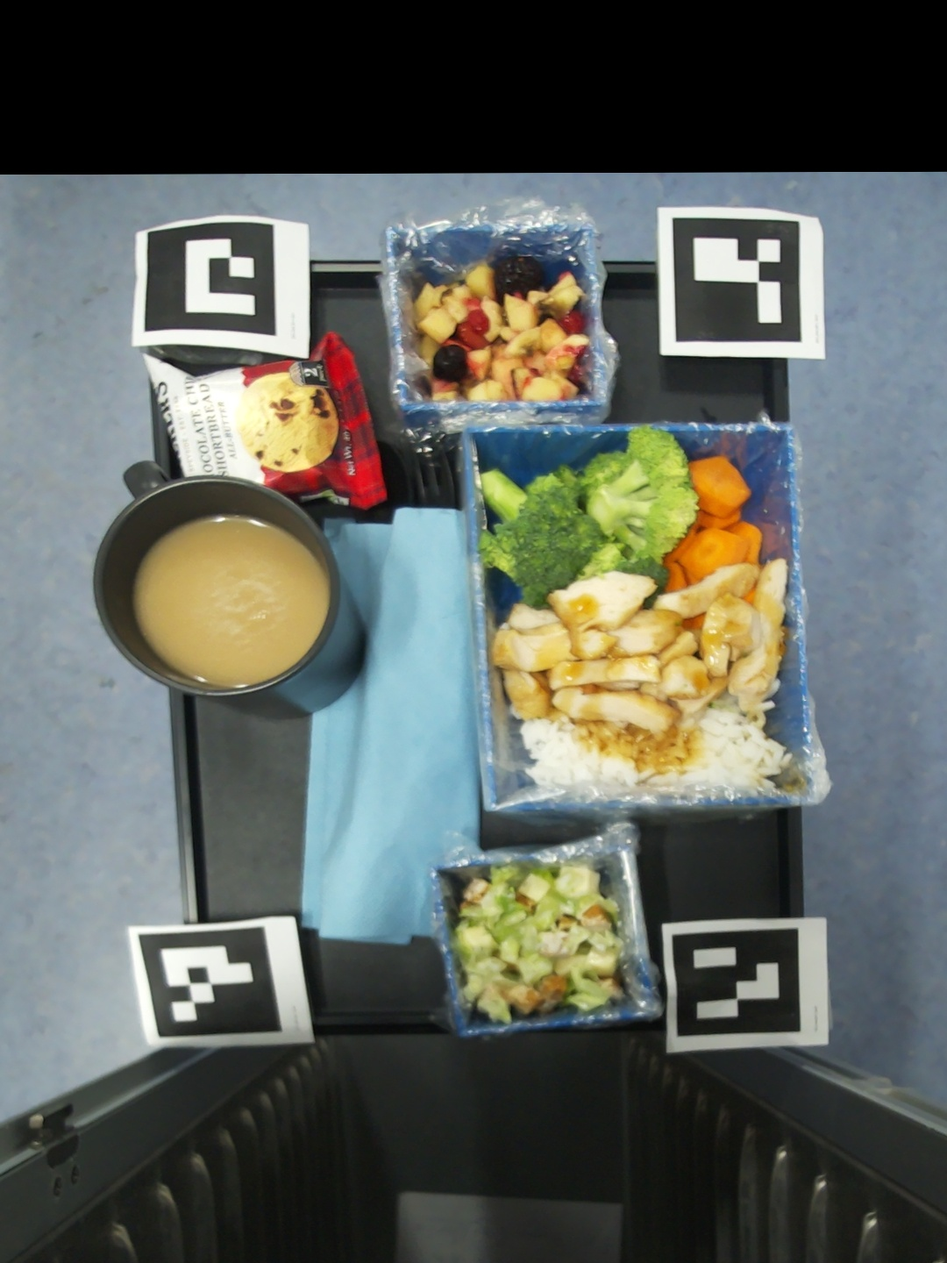broccoli: (480, 424, 701, 609)
carrots: (663, 454, 762, 590)
chicken: (489, 558, 789, 742)
coffee_cup: (93, 459, 368, 720)
cookie: (143, 329, 387, 508)
fruit_salad: (413, 256, 590, 402)
rice: (519, 675, 793, 791)
side_salad: (451, 865, 627, 1024)
